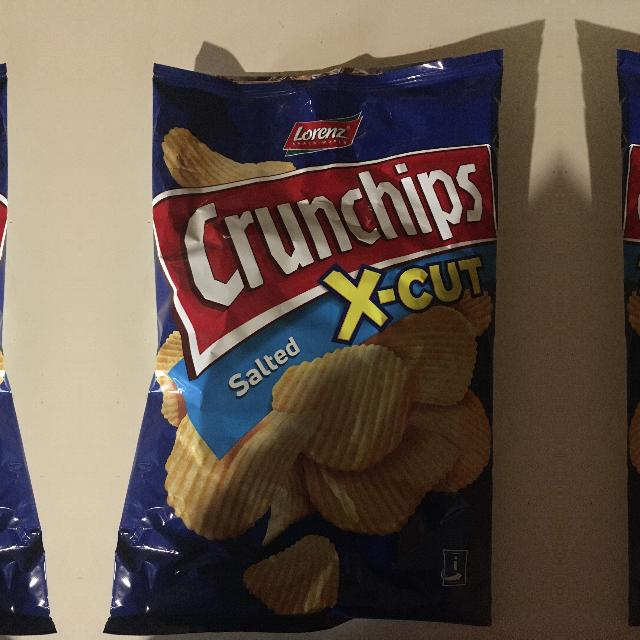crunchips: (153, 144, 498, 382)
